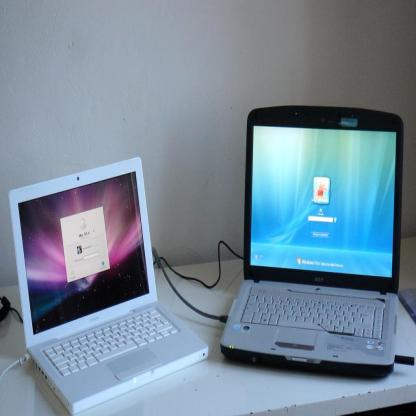board: (216, 106, 410, 380), (8, 156, 210, 416)
